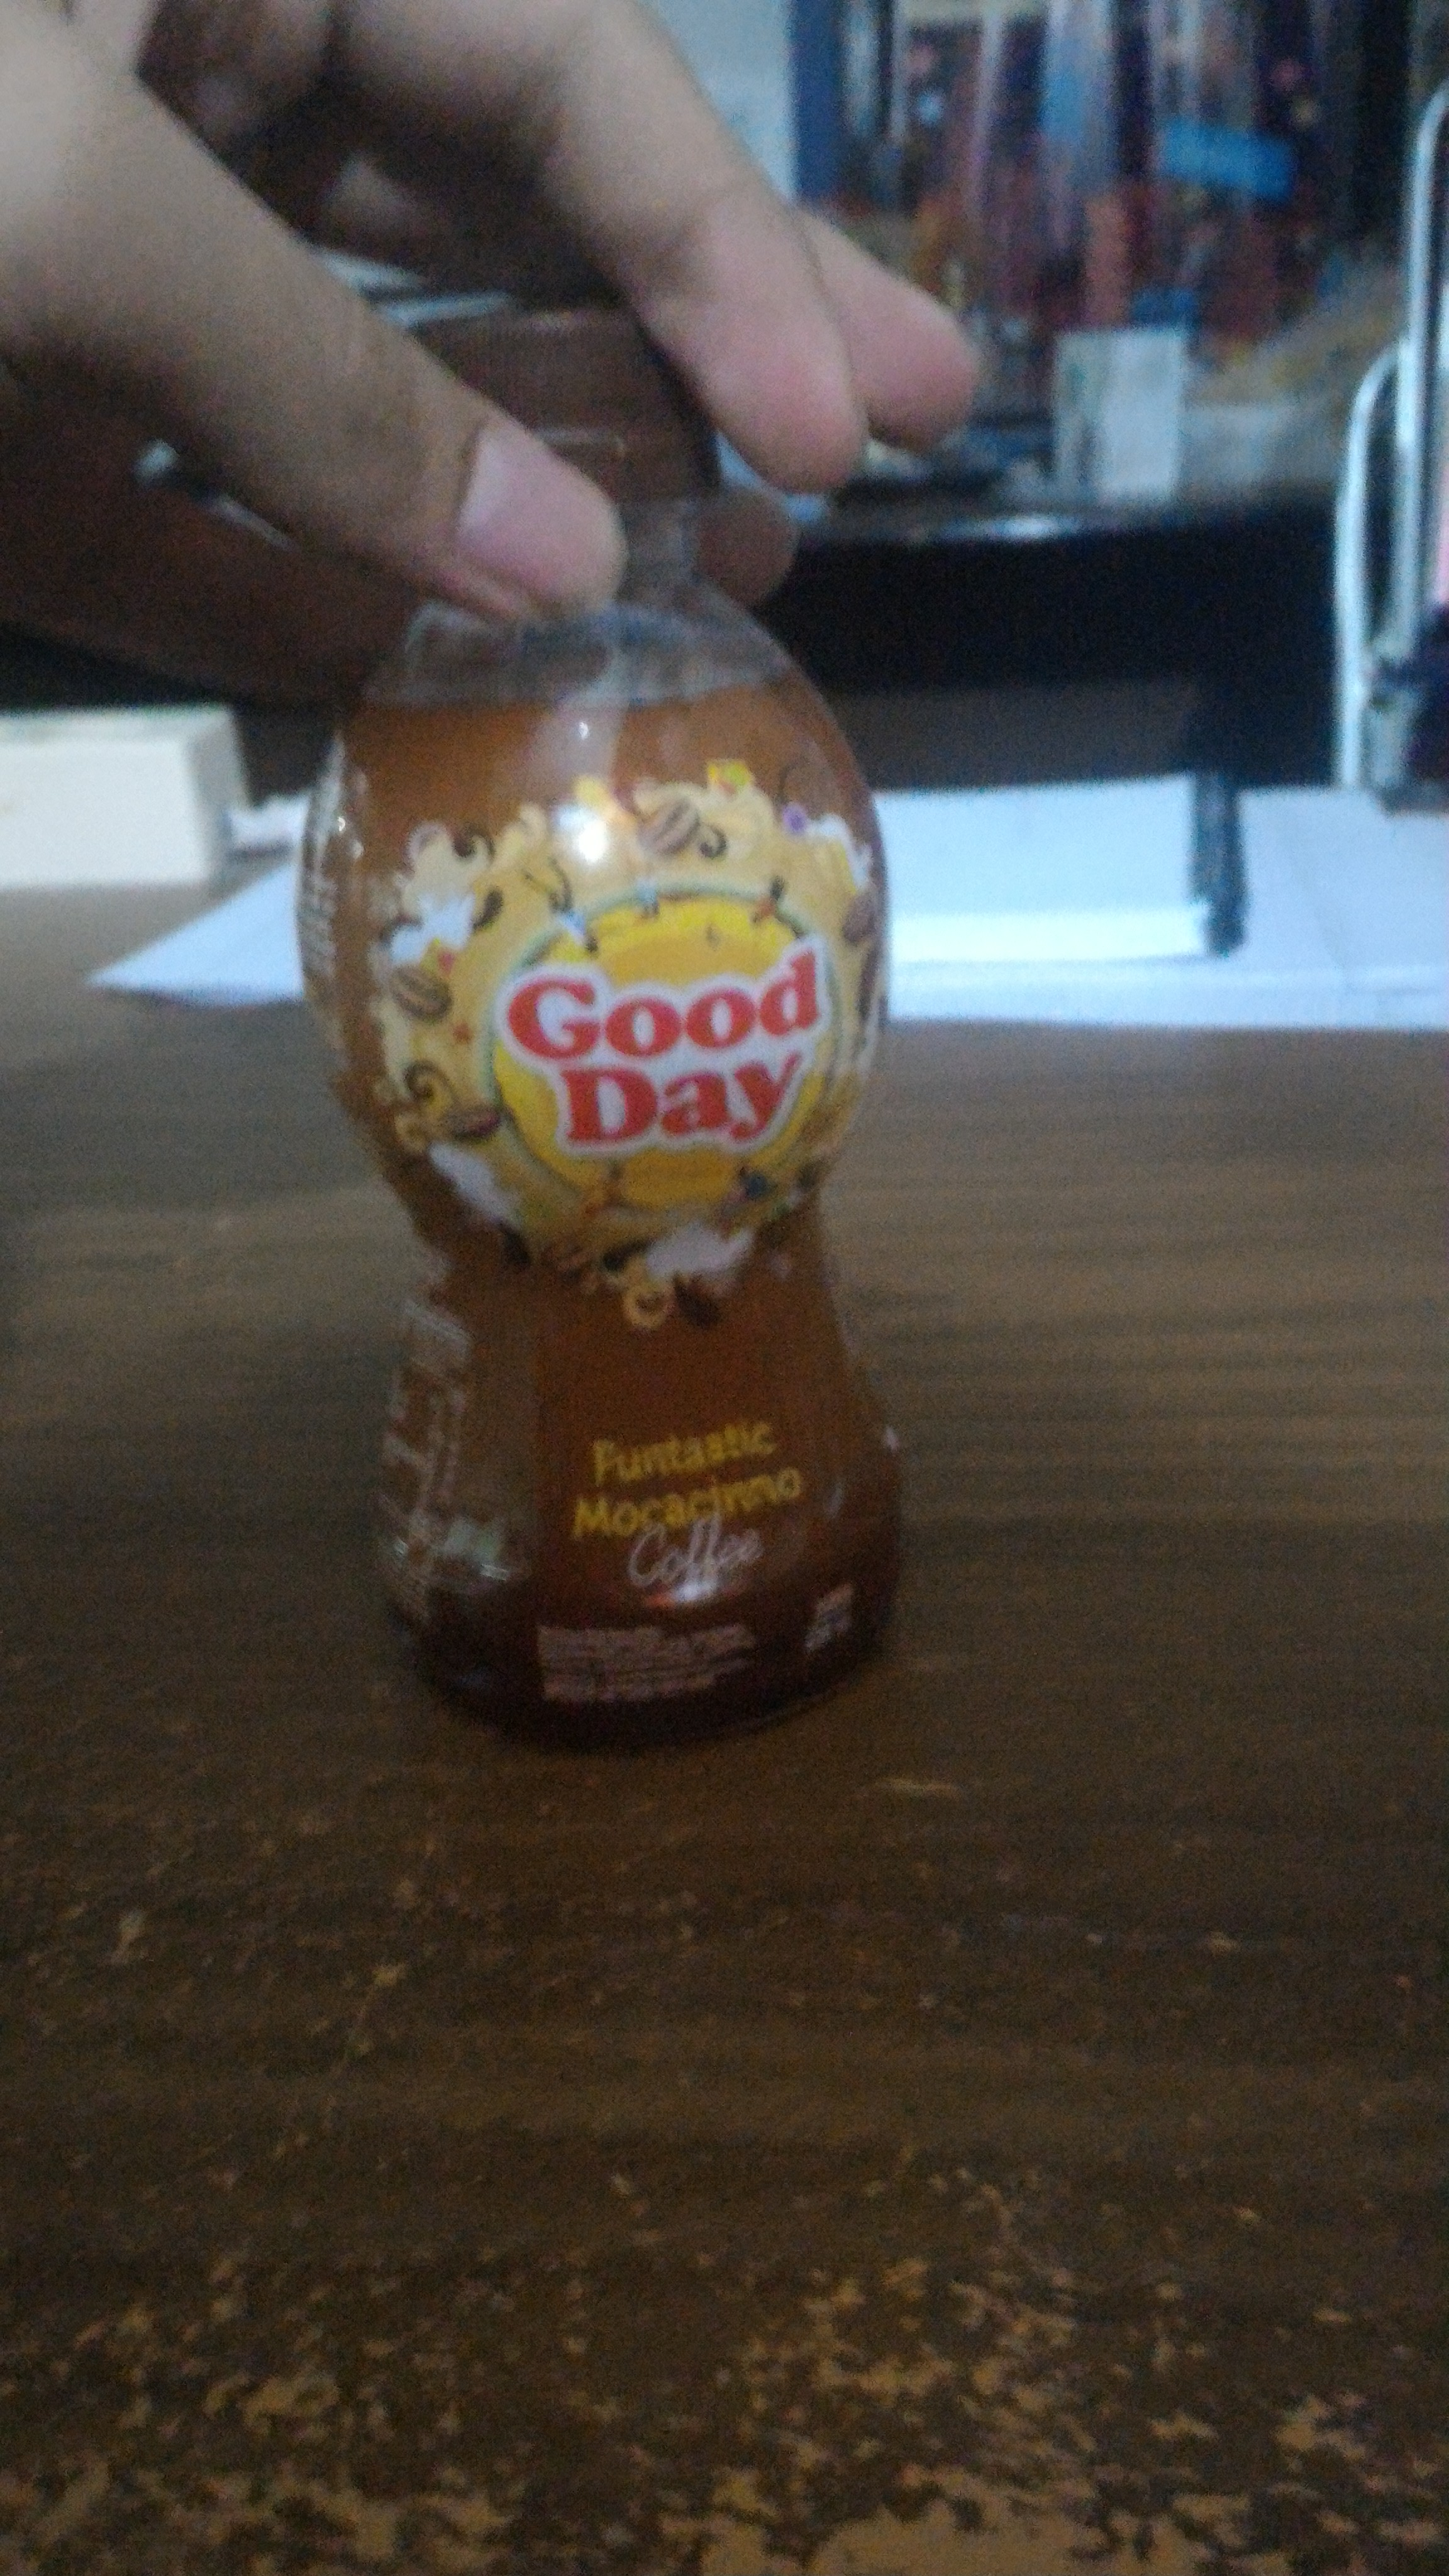botol: (299, 288, 908, 1746), (299, 288, 892, 1746), (324, 288, 908, 1746)
